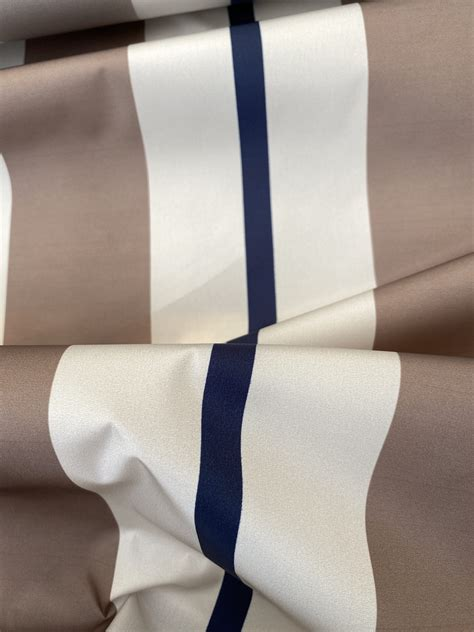nylon: (1, 1, 474, 632)
